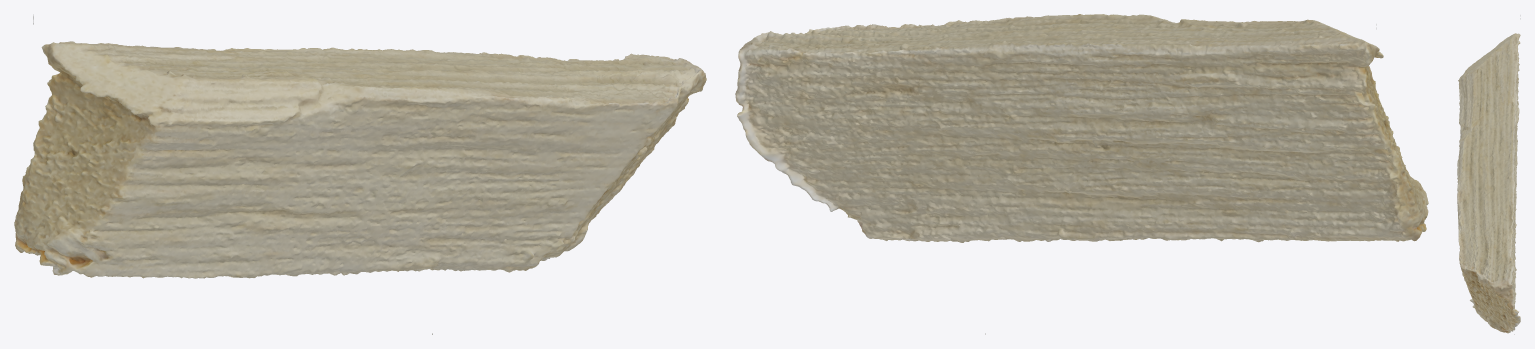
Rendered from agarwood-real-scan.glb.
3 views of the same model, side by side, from view 1: azimuth 30°, elevation 25°; view 2: azimuth 150°, elevation 25°; view 3: azimuth 270°, elevation 25° (orthographic). The views are drawn at different scales.
Visible parts, largest first — view 1: Object_4, Object_8, Object_7, Object_5, Object_6; view 2: Object_6, Object_7, Object_5, Object_4, Object_8; view 3: Object_4, Object_6, Object_5, Object_7, Object_8.
Part boxes in pixels (left/top/right/bottom): Object_4: left=98, top=47, right=706, bottom=258; Object_8: left=97, top=69, right=631, bottom=334; Object_7: left=14, top=14, right=325, bottom=278; Object_5: left=232, top=48, right=706, bottom=275; Object_6: left=33, top=42, right=608, bottom=278; Object_6: left=791, top=19, right=1393, bottom=241; Object_7: left=1109, top=19, right=1428, bottom=242; Object_5: left=735, top=19, right=1311, bottom=241; Object_4: left=735, top=14, right=1375, bottom=238; Object_8: left=780, top=20, right=1370, bottom=334; Object_4: left=1457, top=61, right=1516, bottom=332; Object_6: left=1459, top=33, right=1519, bottom=321; Object_5: left=1467, top=131, right=1520, bottom=330; Object_7: left=1464, top=15, right=1520, bottom=180; Object_8: left=1459, top=58, right=1516, bottom=334.
Bounding box in the file's own units: 35.95 × 20.85 × 5.49.
